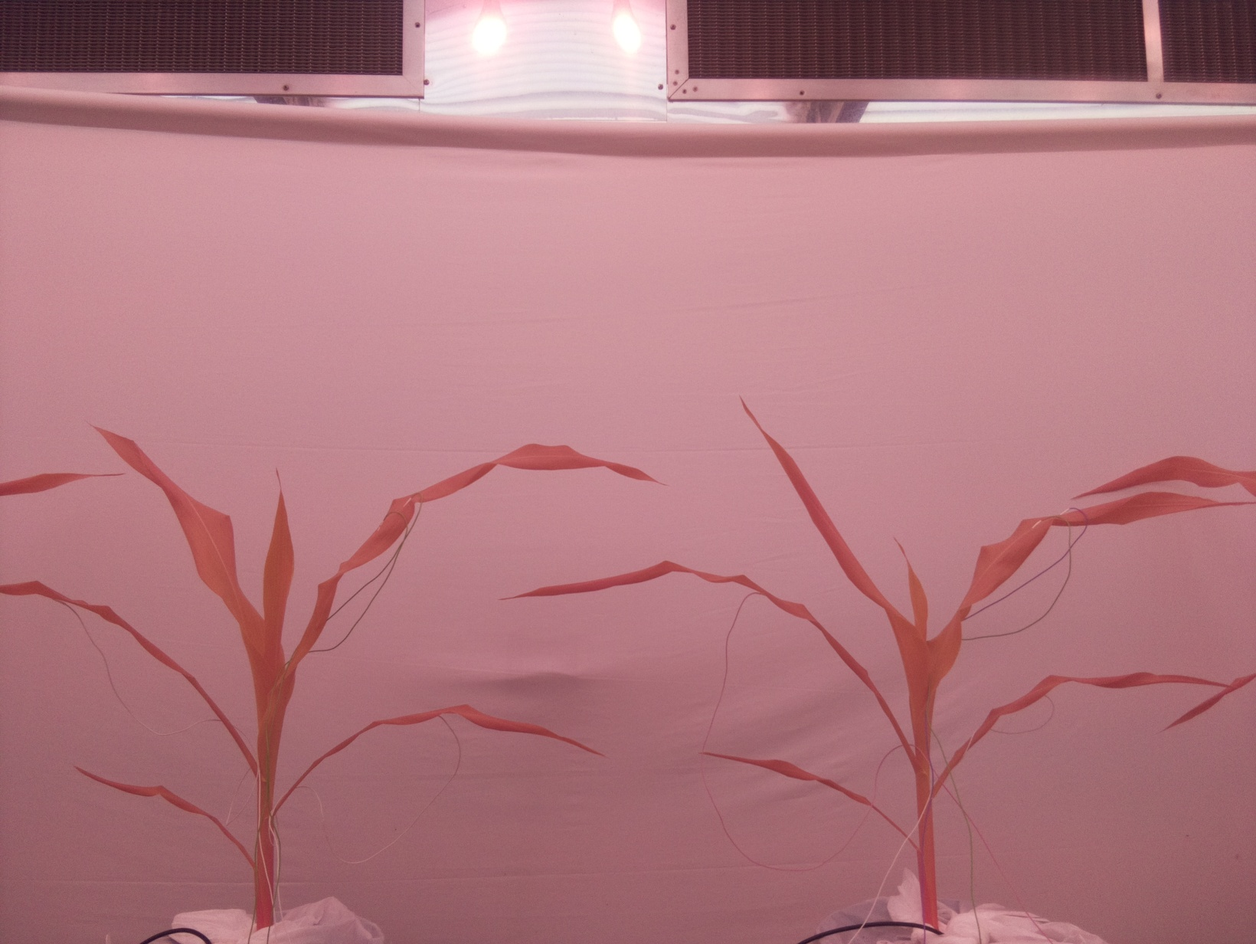maize: (496, 392, 1256, 941), (0, 416, 668, 944)
